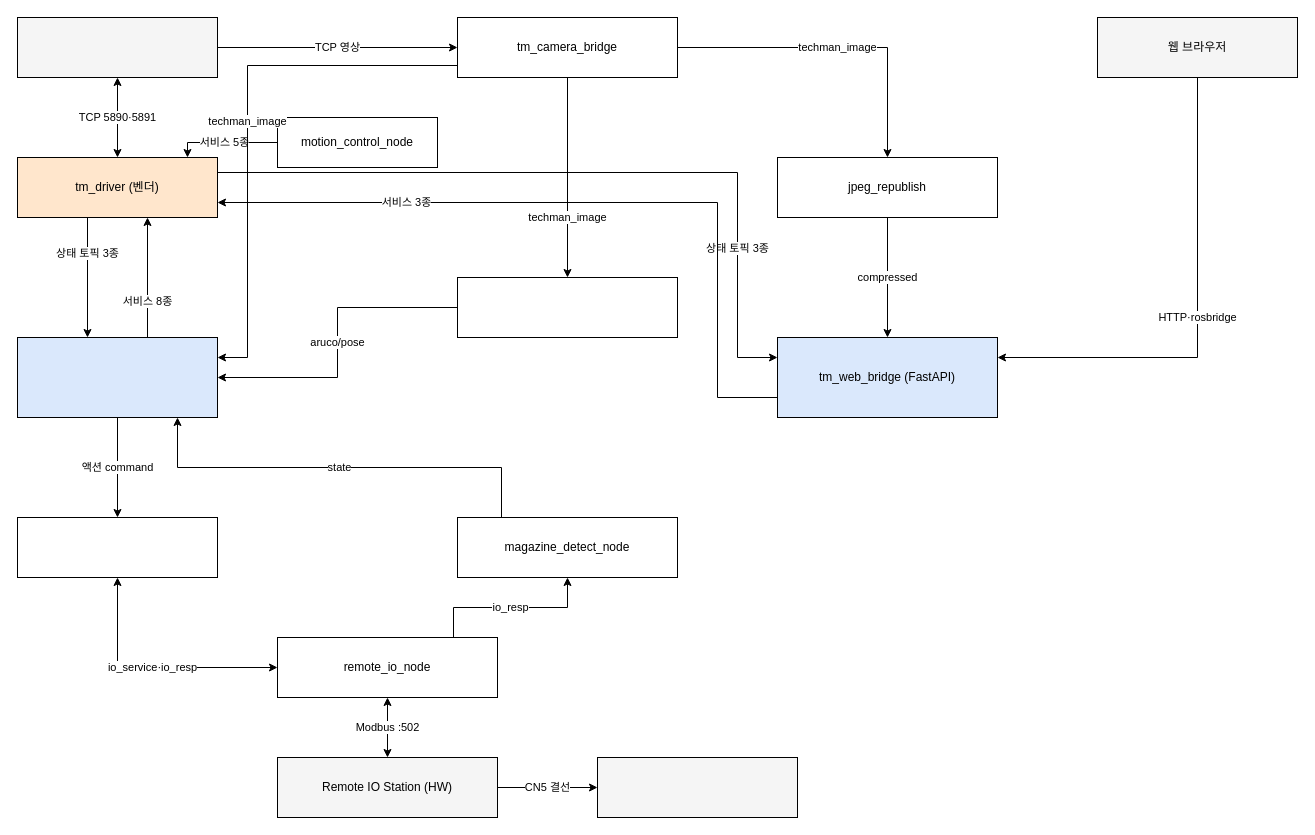
Image size: 1315x835. Some labels were removed from this diagram. The shapes that lost their labels are listed below. From the top down, each one's centre as x and y in pixels, then its label:
point 117,47: TMflow 컨트롤러 (HW)
point 567,307: aruco_detector_node
point 117,377: task_manager (PyQt)
point 117,547: gripper_node
point 697,787: LECP6 그리퍼 (HW)
